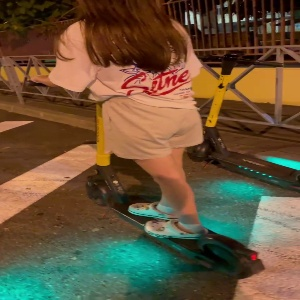human on a scooter: (22, 1, 266, 279)
